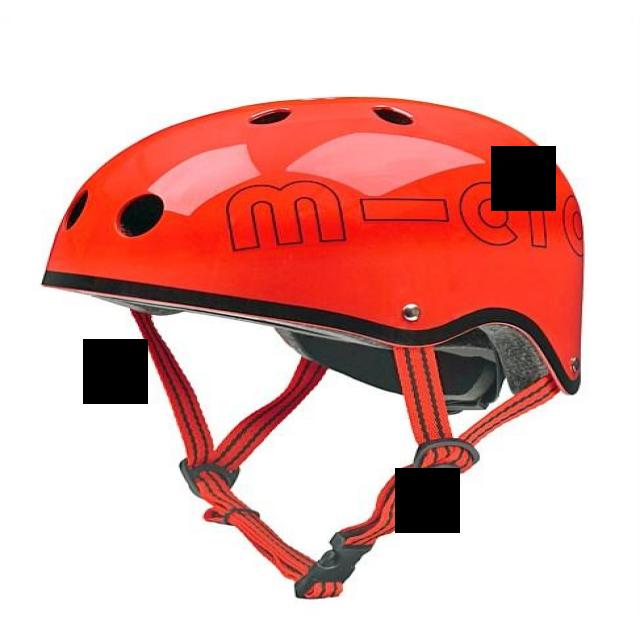Helmet: (45, 94, 582, 396)
